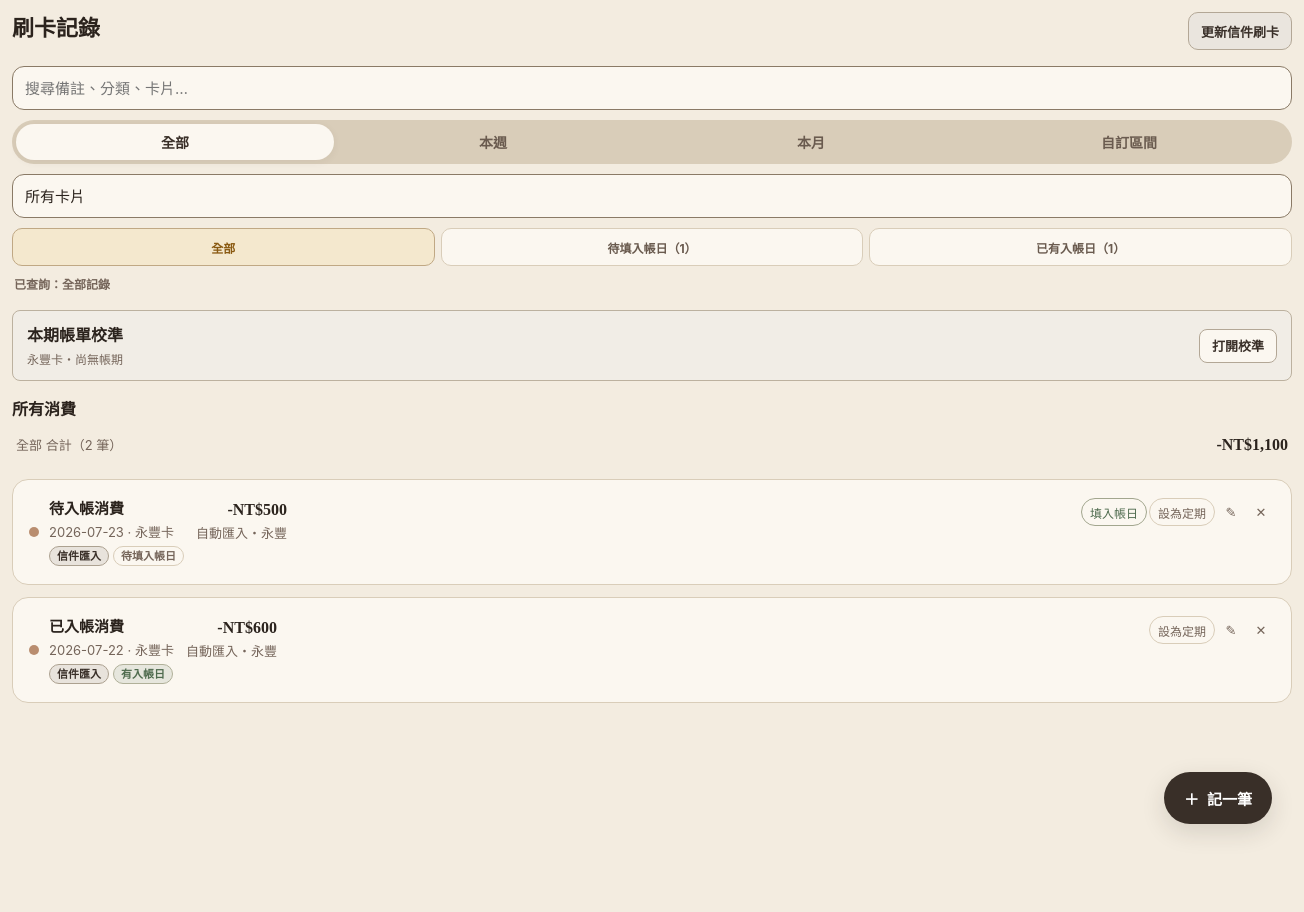
Scenario: Transactions import entry › filters the list to pending reconciliation transactions
Click the button "待填入帳日（1）". click: (652, 247)
box: [441,228,863,266]
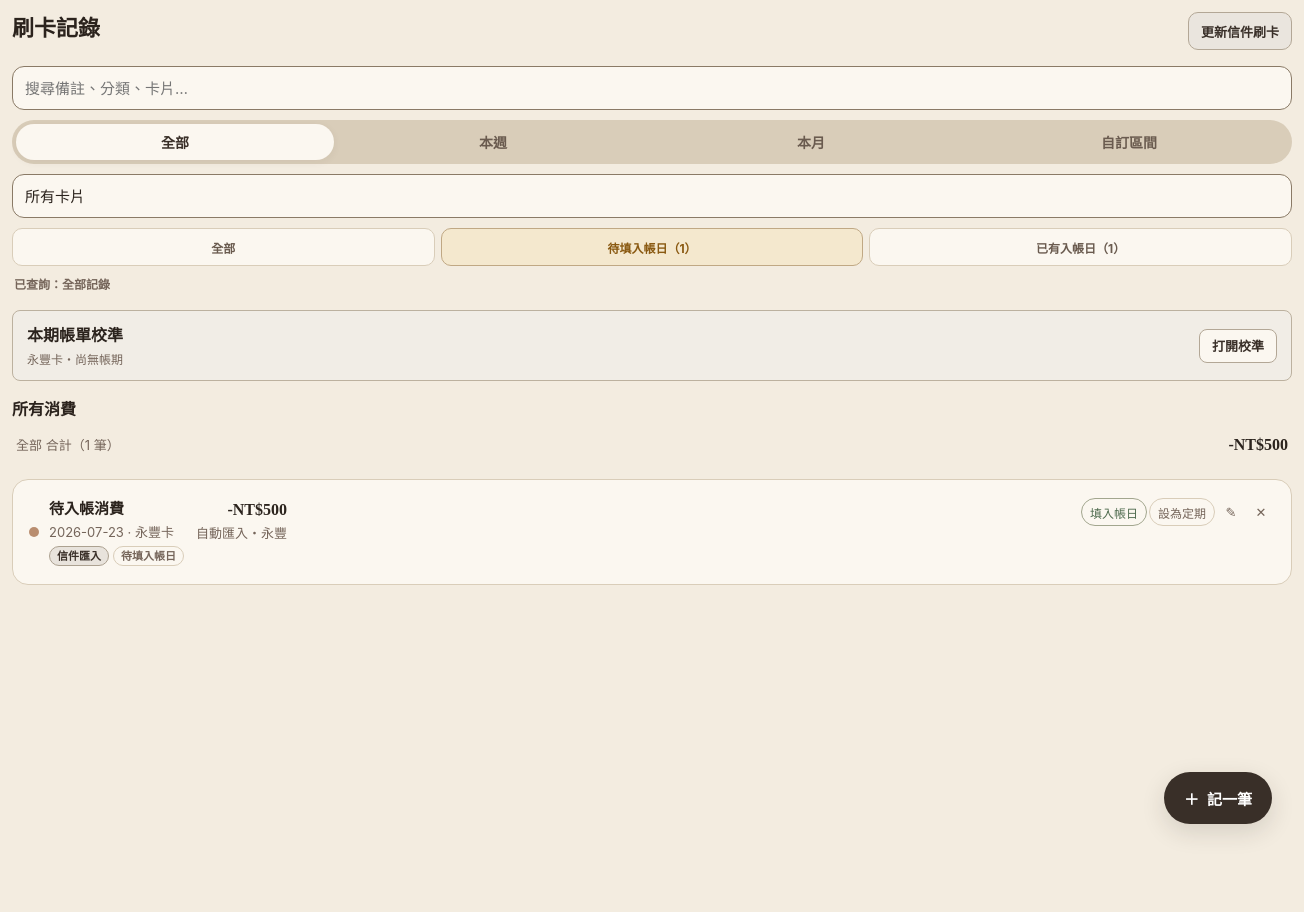
Check: the text "待入帳消費" is shown, box [49,499,124,518]
Check: the button "已入帳消費" is gone
